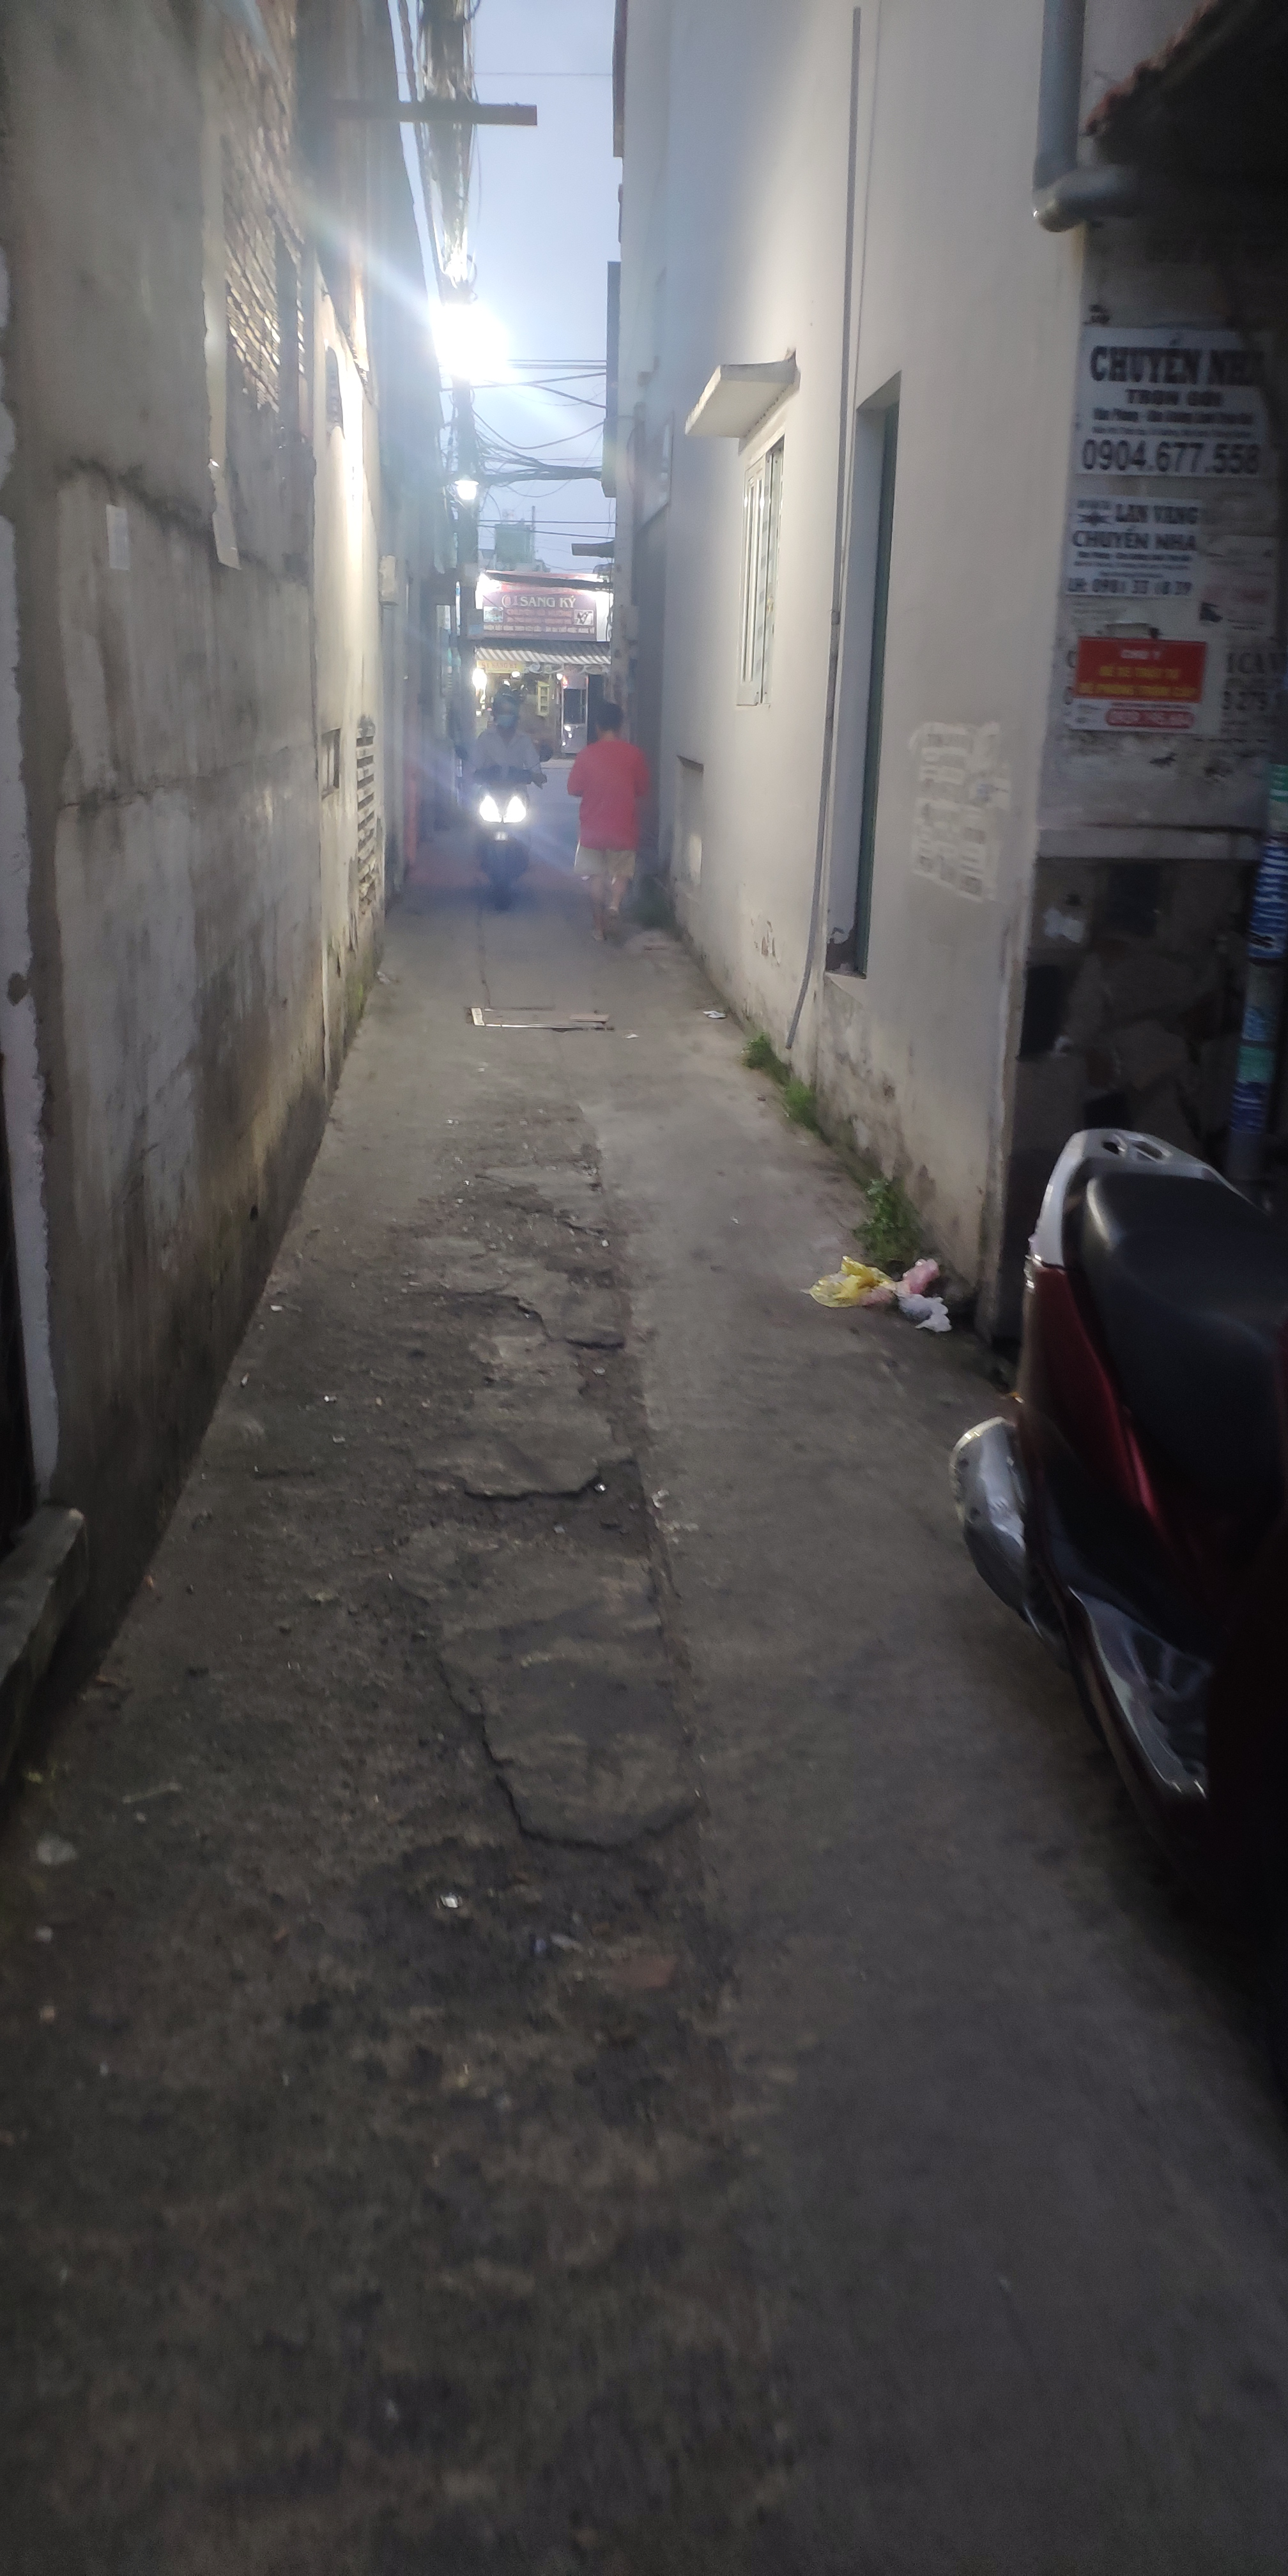hole: (366, 1830, 743, 2044), (407, 1459, 660, 1561), (488, 1196, 619, 1296), (568, 1331, 641, 1456), (463, 1295, 545, 1336), (562, 1157, 609, 1193)
